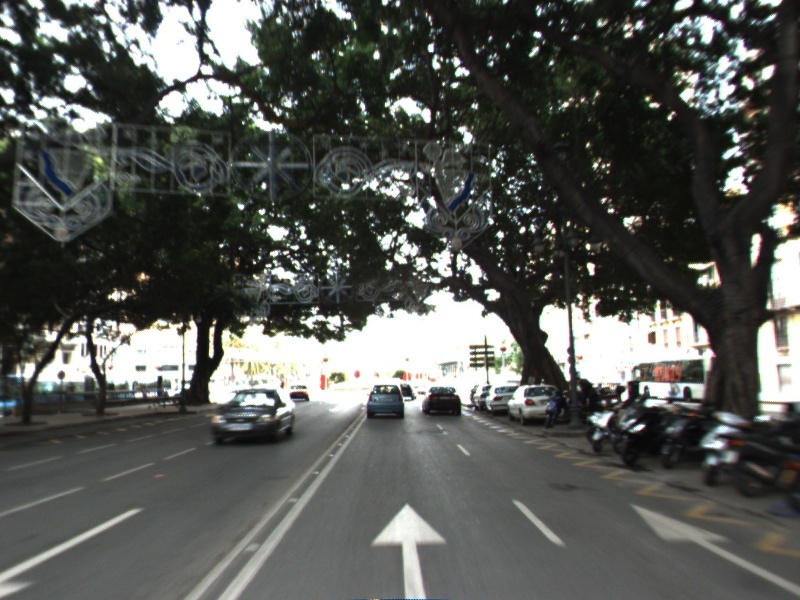STRAIGHT: (624, 498, 800, 594), (366, 498, 451, 600)
